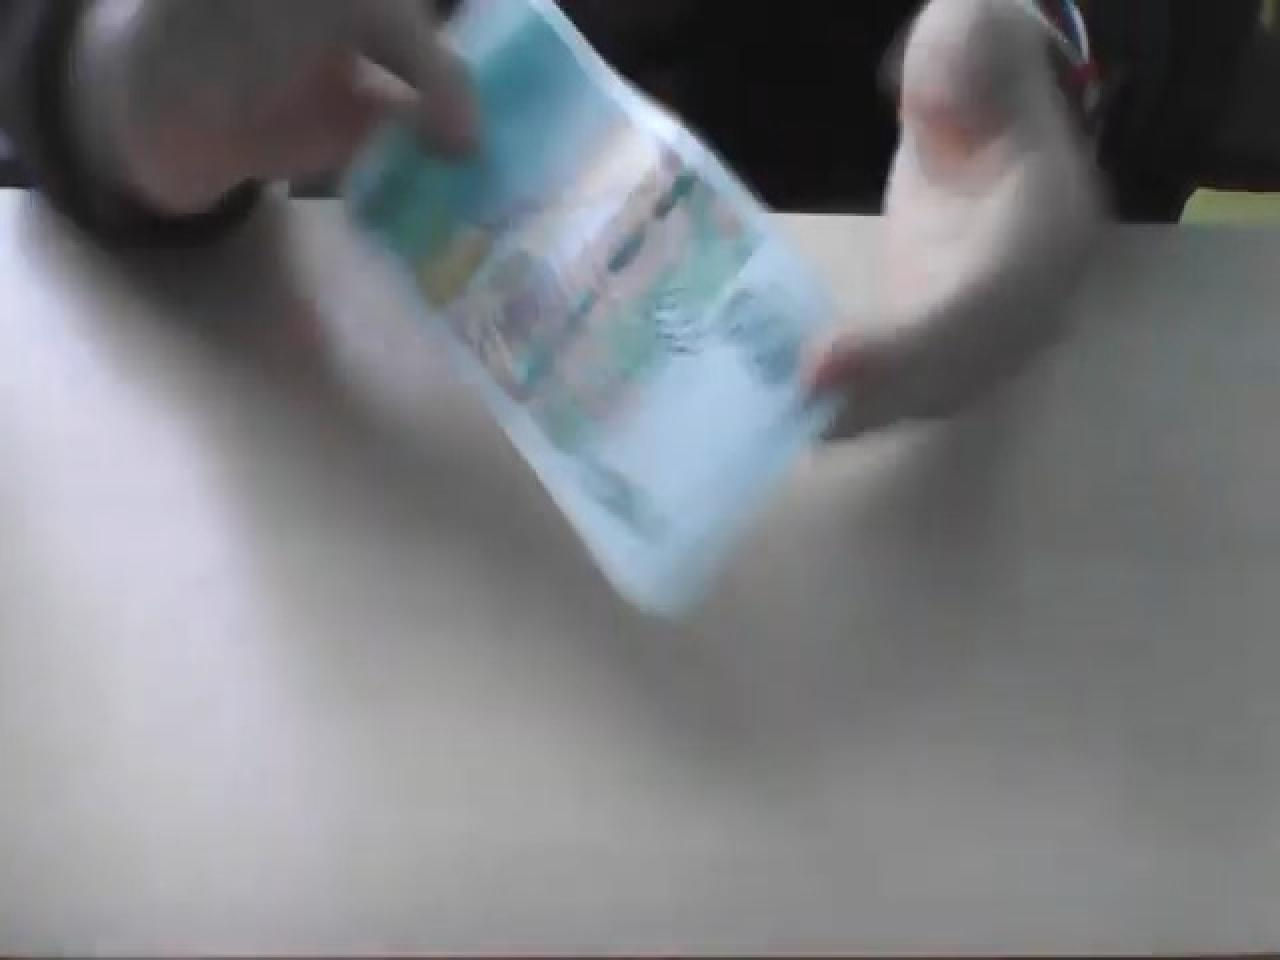100leva: (334, 0, 846, 621)
